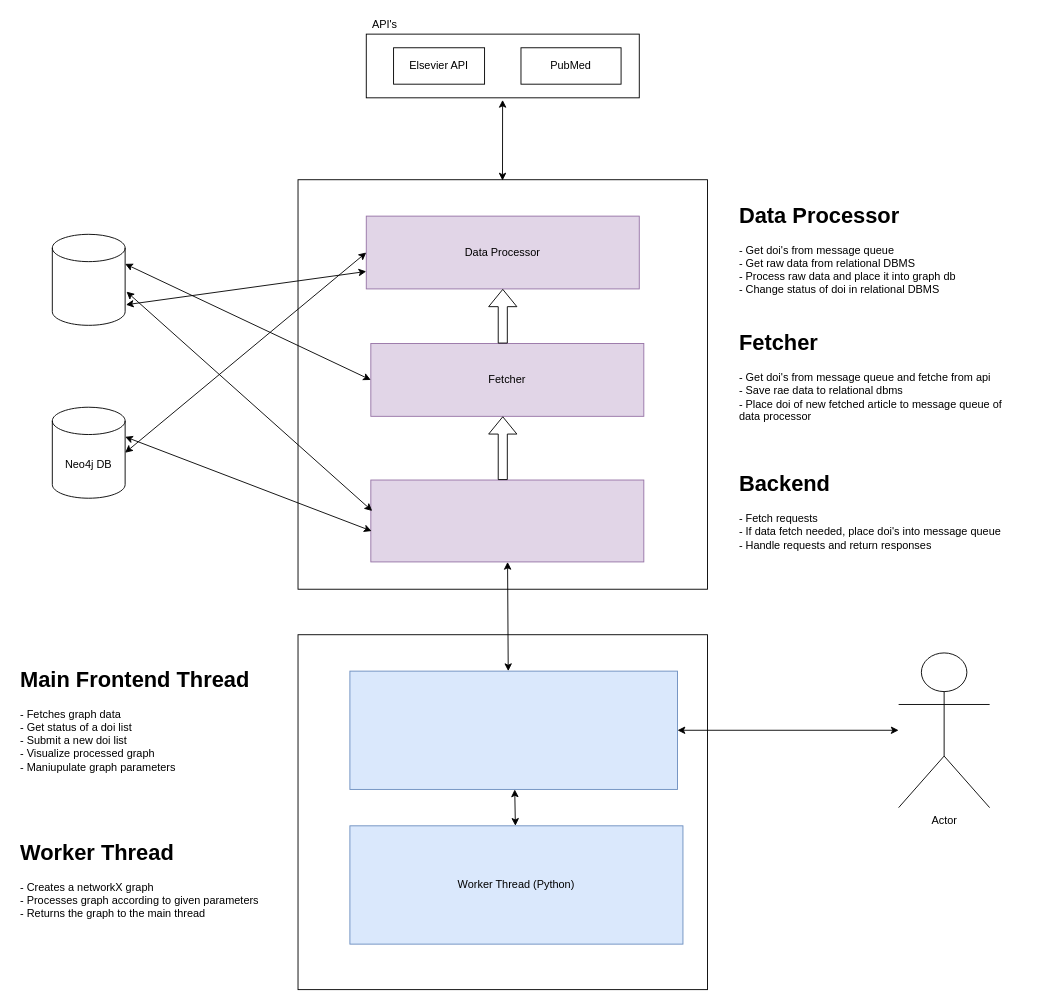
This 1041x1006 diagram has some shape labels left out. The shapes that lost their labels are listed below. From the top down, each one's centre as x and y in pixels, then its label:
At point (88, 279): "Any relational DBMS".
At point (507, 520): "Backend".
At point (513, 729): "Main Frontend Thread (JavaScript)".
